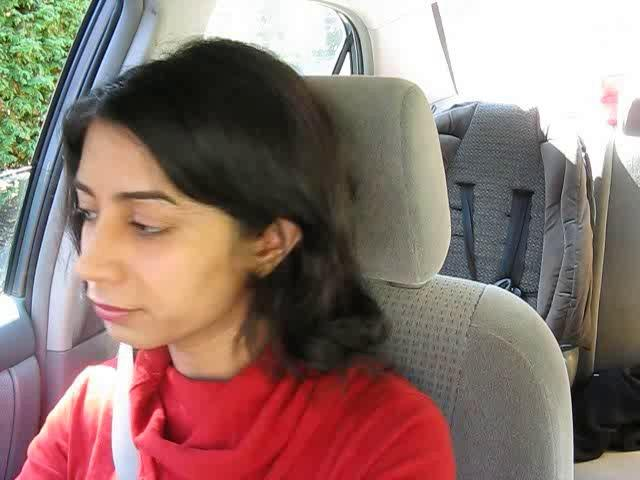close_eyeL: (69, 193, 107, 232)
close_eyeR: (115, 207, 185, 251)
no_yawn: (72, 282, 156, 334)
